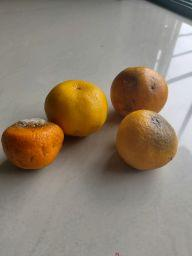orange: (116, 109, 179, 172), (44, 78, 109, 138), (2, 118, 65, 171), (110, 66, 170, 120)
